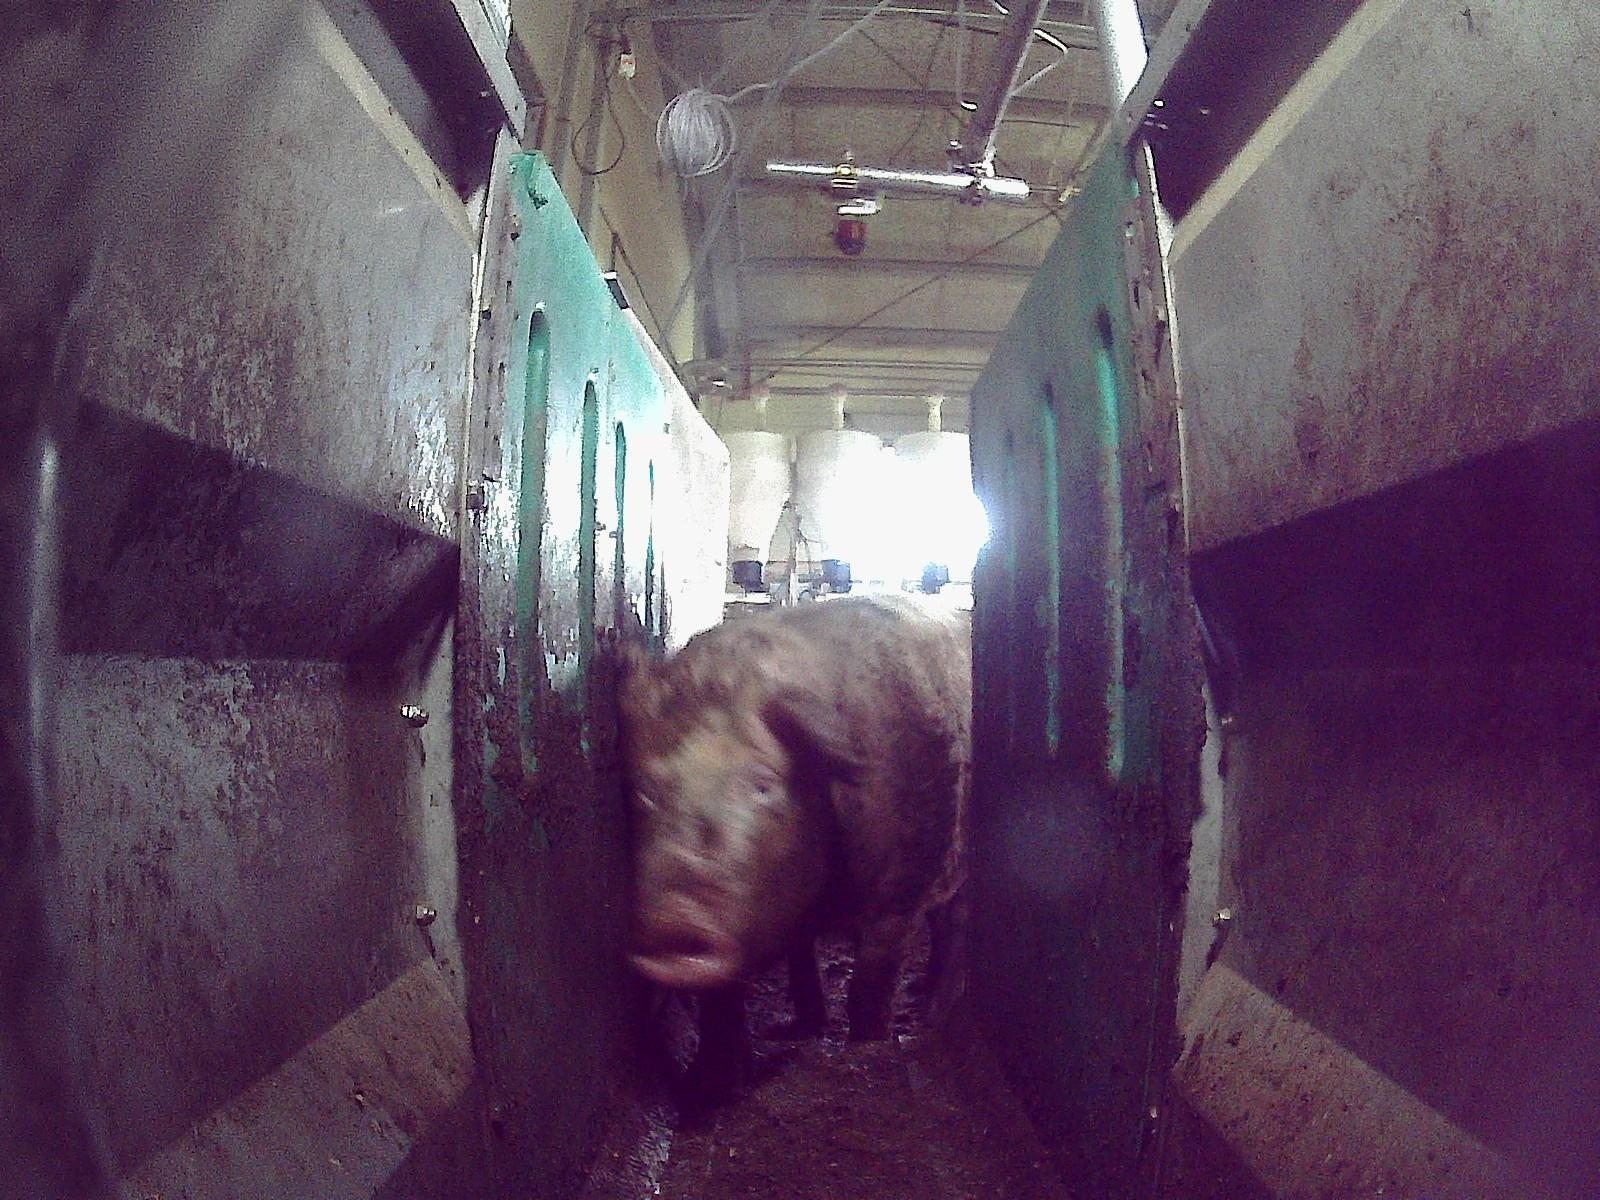Face: (618, 676, 834, 986)
